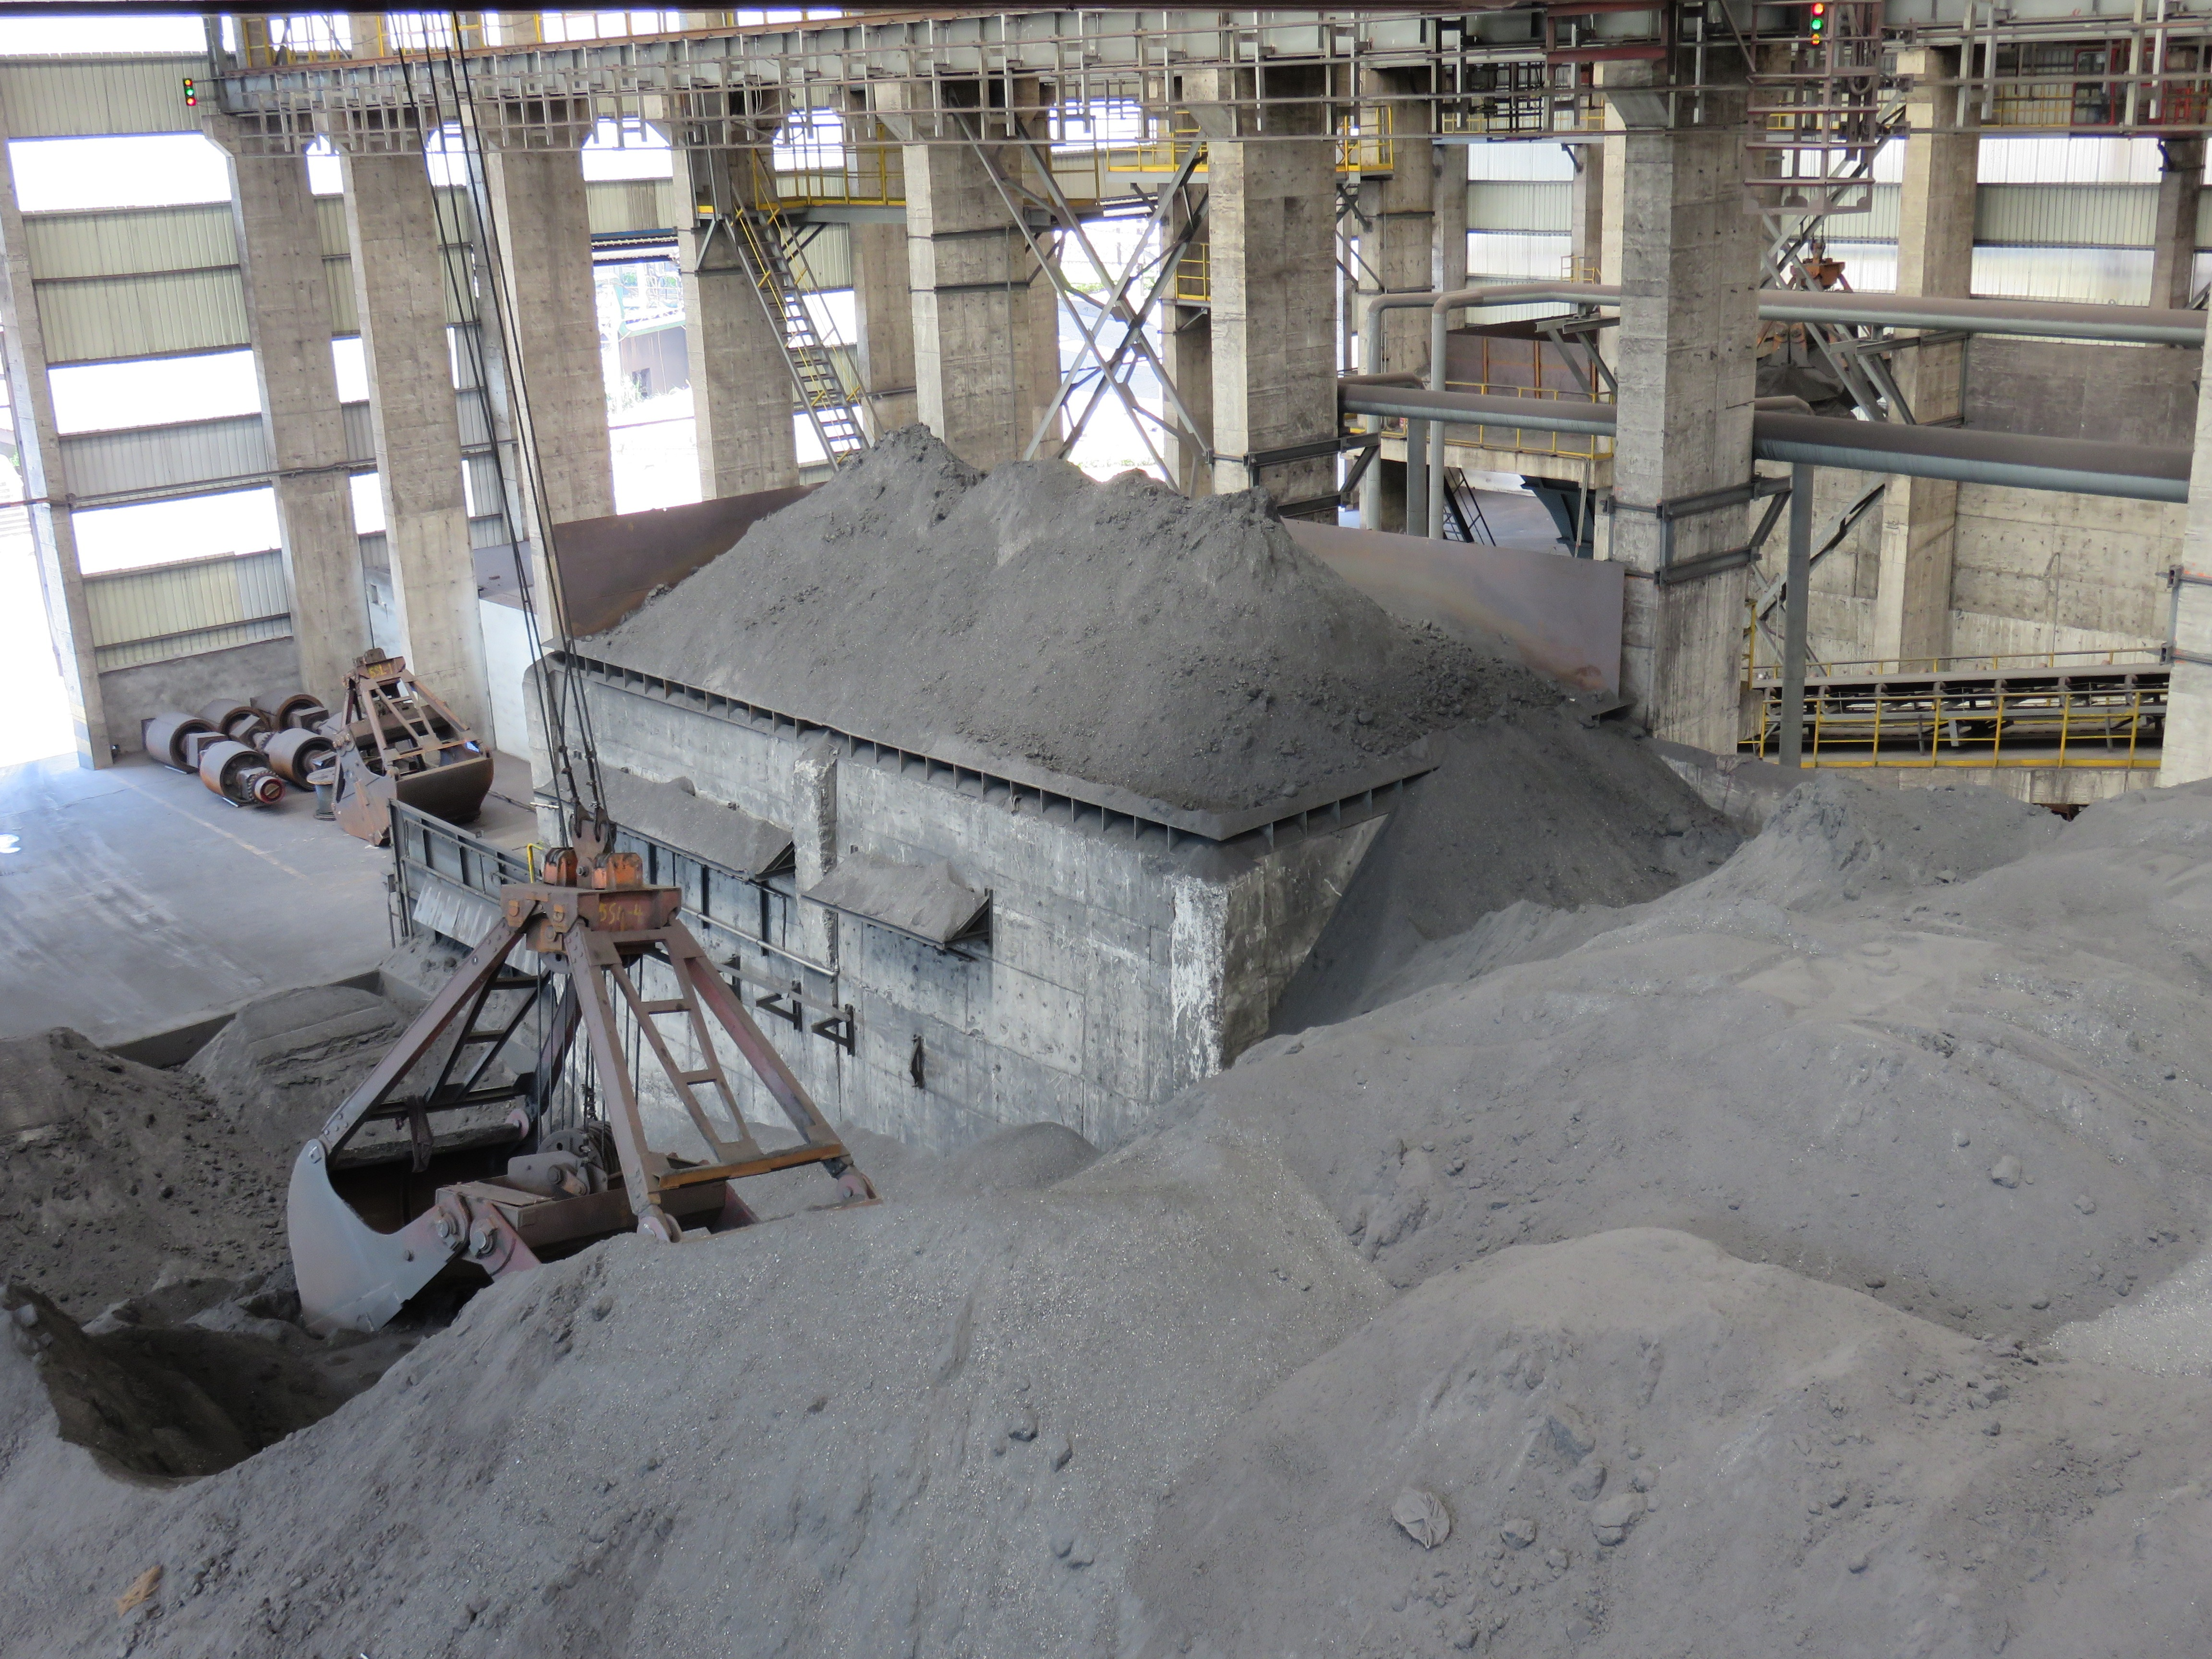grab: (293, 795, 897, 1342), (1733, 237, 1925, 432)
